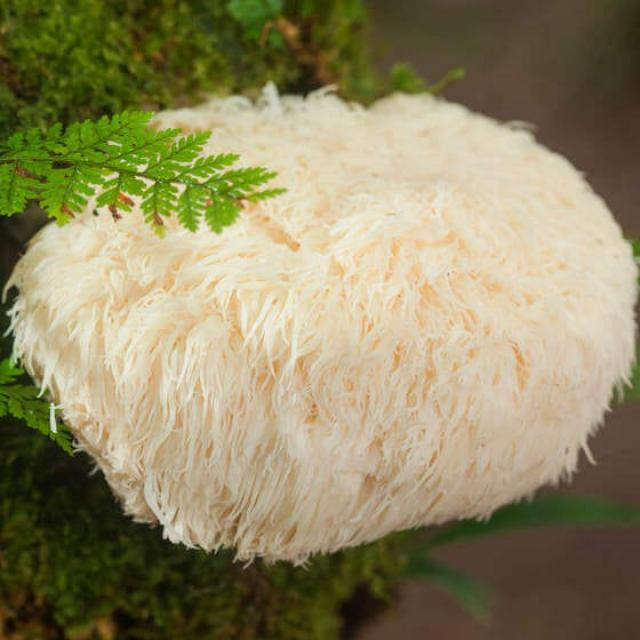Hericium erinaceus: (12, 92, 638, 563)
